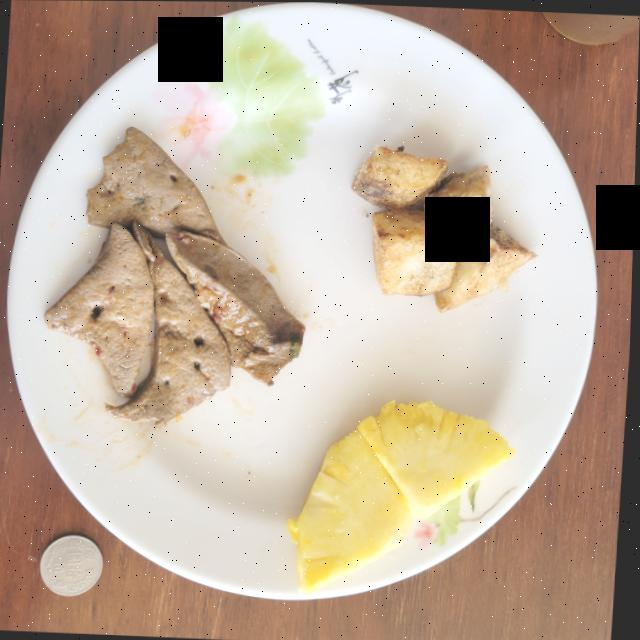coin: (43, 535, 106, 595)
fried potato: (353, 145, 537, 311)
pig liver: (46, 127, 306, 428)
pineapple: (291, 401, 516, 593)
